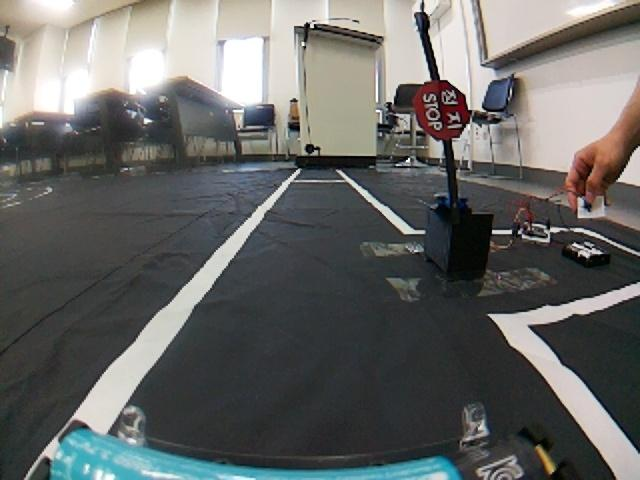sign_stop: (409, 78, 475, 145)
straight: (34, 307, 640, 479)
